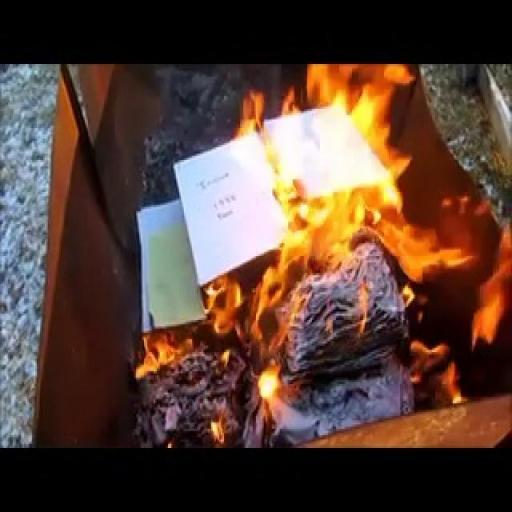smoke: (233, 62, 460, 358), (127, 321, 207, 432)
